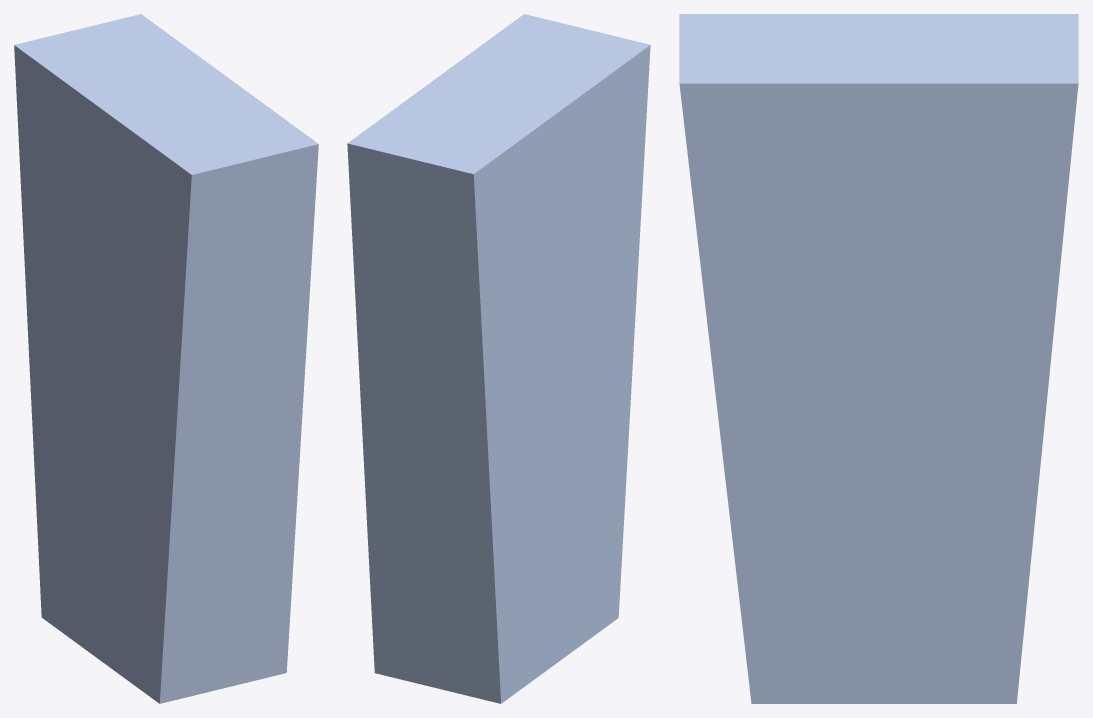
File: MenuCred.glb
3 views of the same model, side by side, from view 1: azimuth 30°, elevation 25°; view 2: azimuth 150°, elevation 25°; view 3: azimuth 270°, elevation 25° (orthographic). The views are drawn at different scales.
Parts seen in each view (by area): view 1: MenuCred; view 2: MenuCred; view 3: MenuCred.
Boxes of the visible parts, box(x1,y1,x2,y2) form: MenuCred: box(14, 14, 318, 703); MenuCred: box(347, 14, 650, 703); MenuCred: box(679, 14, 1078, 703).
Size of the model in its own units: 32 by 133 by 77.55.
Materials: 1 (1 with a texture image).
